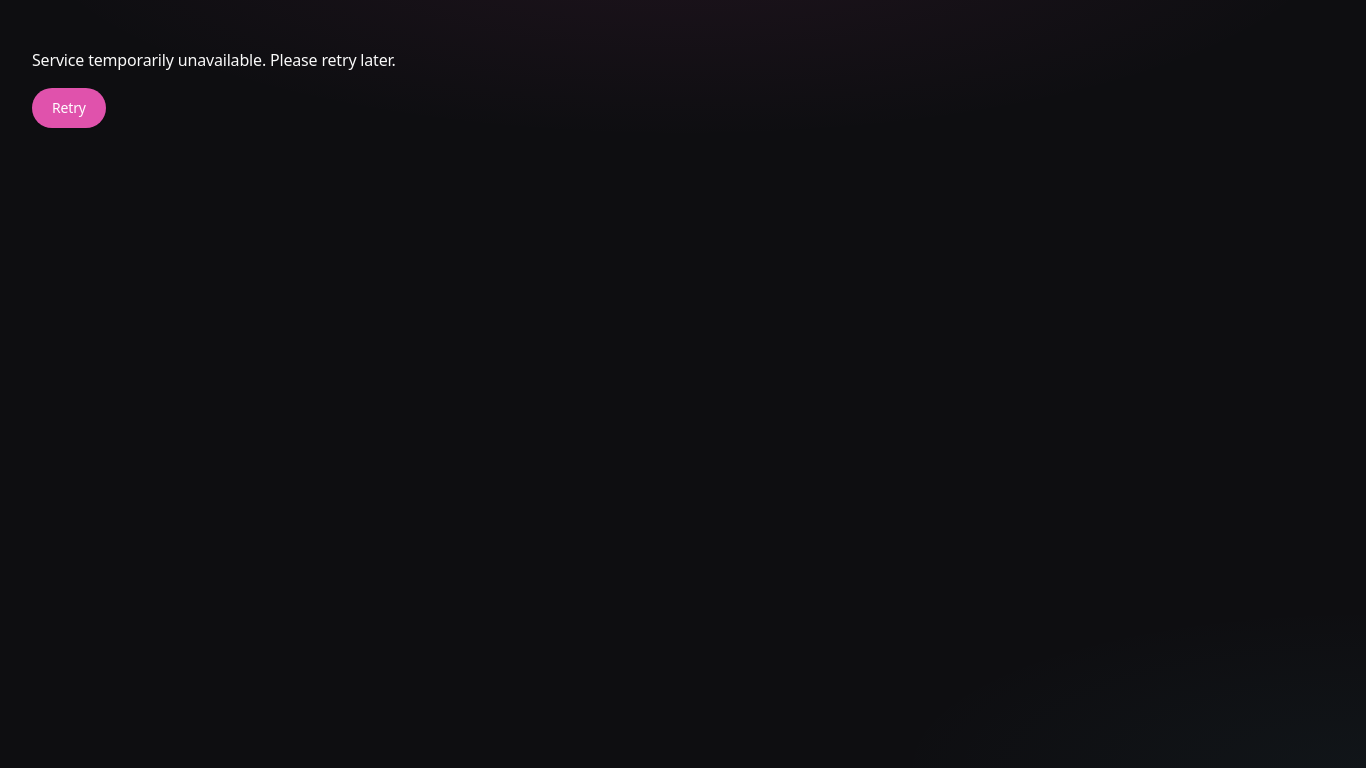
Test case: profile restoration failure exposes retry and recovers
This screenshot has width=1366, height=768.
Expected: the message "Service temporarily unavailable. Please retry later. Retry" is shown, [32, 49, 396, 128]
Click the button "Retry".
click(69, 108)  # box [32, 88, 106, 128]
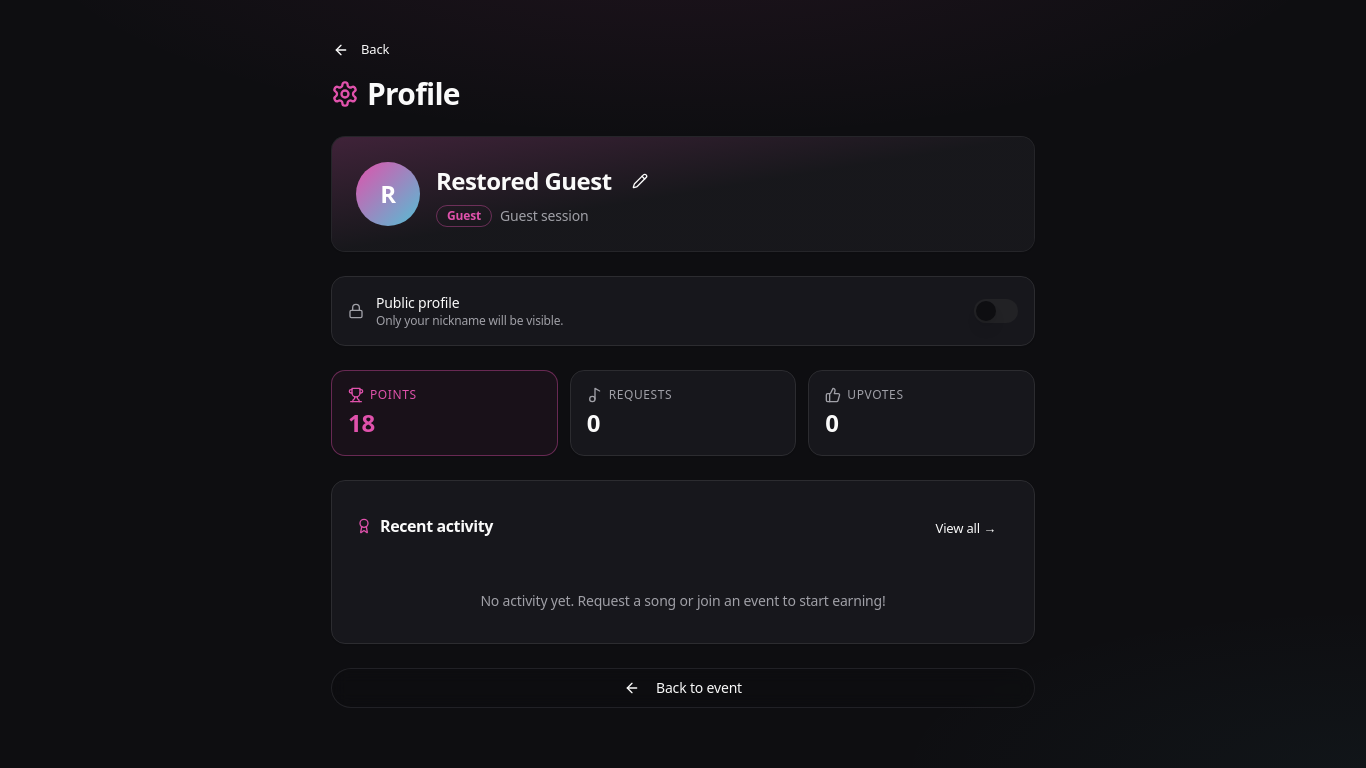
Expected: the heading "Restored Guest" is shown, [436, 165, 612, 197]
